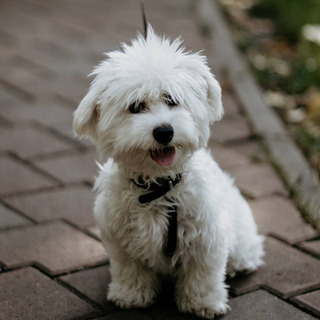perro: (67, 23, 237, 194)
